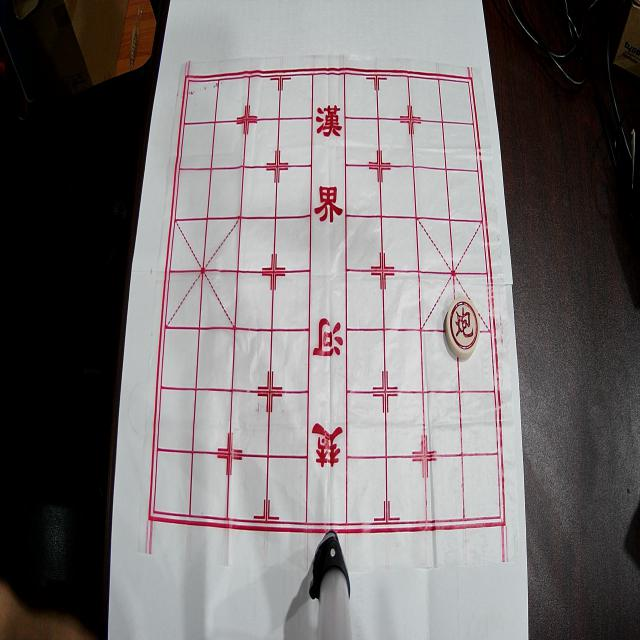red-cannon: (445, 296, 480, 358)
